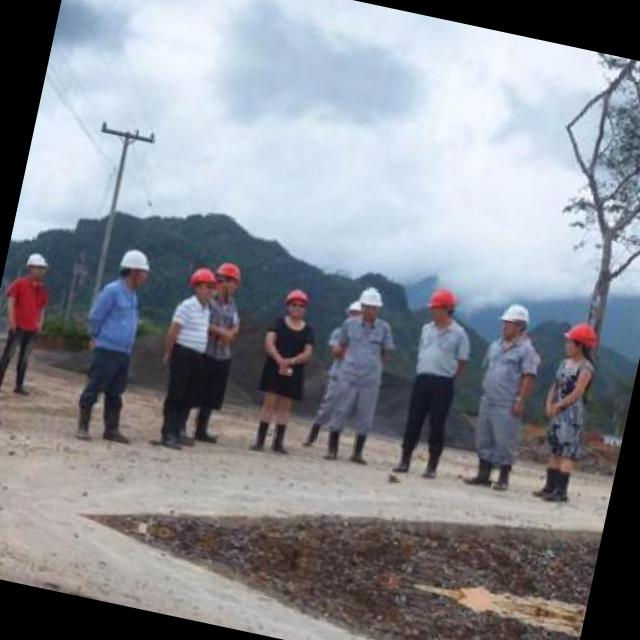helmet: (112, 239, 155, 290), (559, 318, 600, 367), (423, 280, 463, 327), (493, 294, 532, 340), (16, 244, 52, 286), (210, 254, 246, 296), (185, 261, 220, 300), (354, 281, 388, 321), (280, 282, 314, 320), (344, 296, 364, 324)
